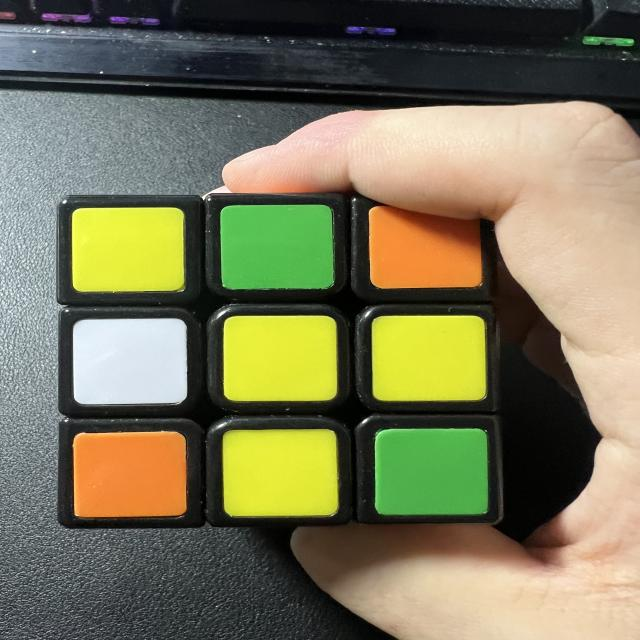center: (223, 315, 338, 402)
green: (375, 428, 490, 514), (220, 207, 332, 287)
orange: (370, 199, 481, 290), (72, 430, 186, 515)
white: (72, 319, 186, 406)
yellow: (226, 313, 337, 401), (375, 314, 486, 401), (225, 429, 337, 515), (71, 208, 185, 290)
